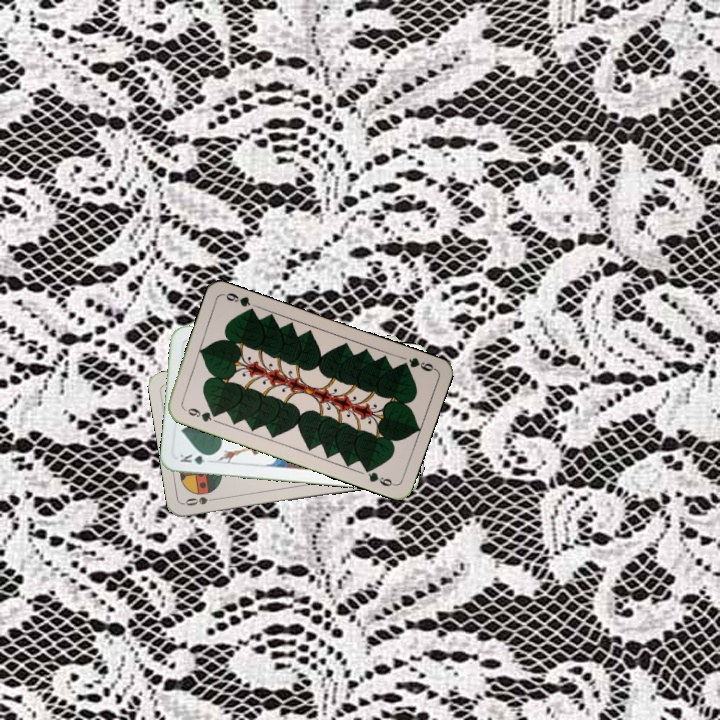G9: (396, 353, 437, 374), (180, 404, 220, 424)
GK: (174, 450, 215, 467)
SO: (181, 492, 222, 508)
